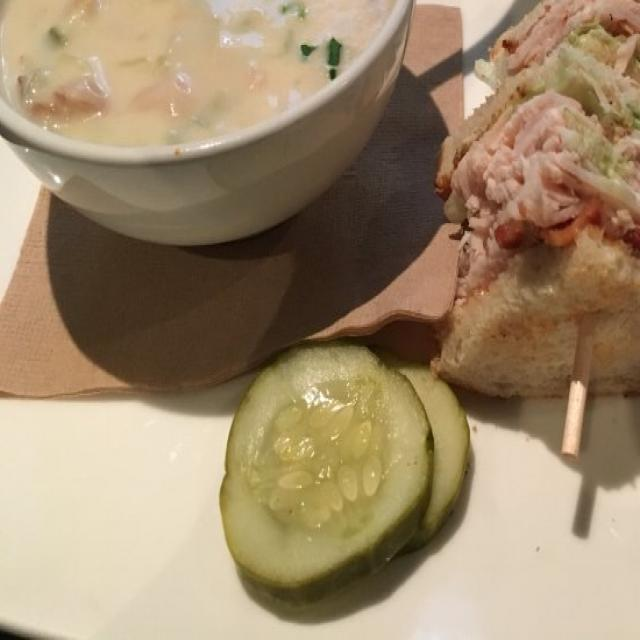Sandwich: (446, 3, 636, 451)
